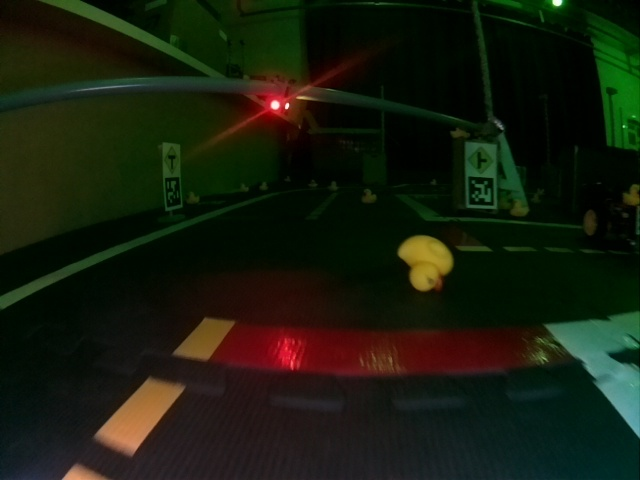Duckie: (398, 235, 453, 290), (510, 202, 529, 216), (624, 186, 638, 204), (361, 190, 376, 204), (187, 193, 200, 203), (309, 180, 318, 188), (329, 183, 337, 191)
Intersection sign: (468, 145, 494, 174), (164, 147, 180, 175)
QR code: (468, 178, 495, 207), (163, 178, 181, 209)
Traffic light: (267, 82, 291, 116)
